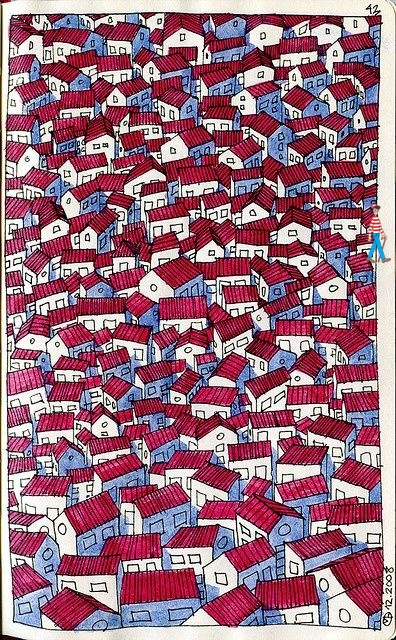waldo: (366, 203, 391, 263)
